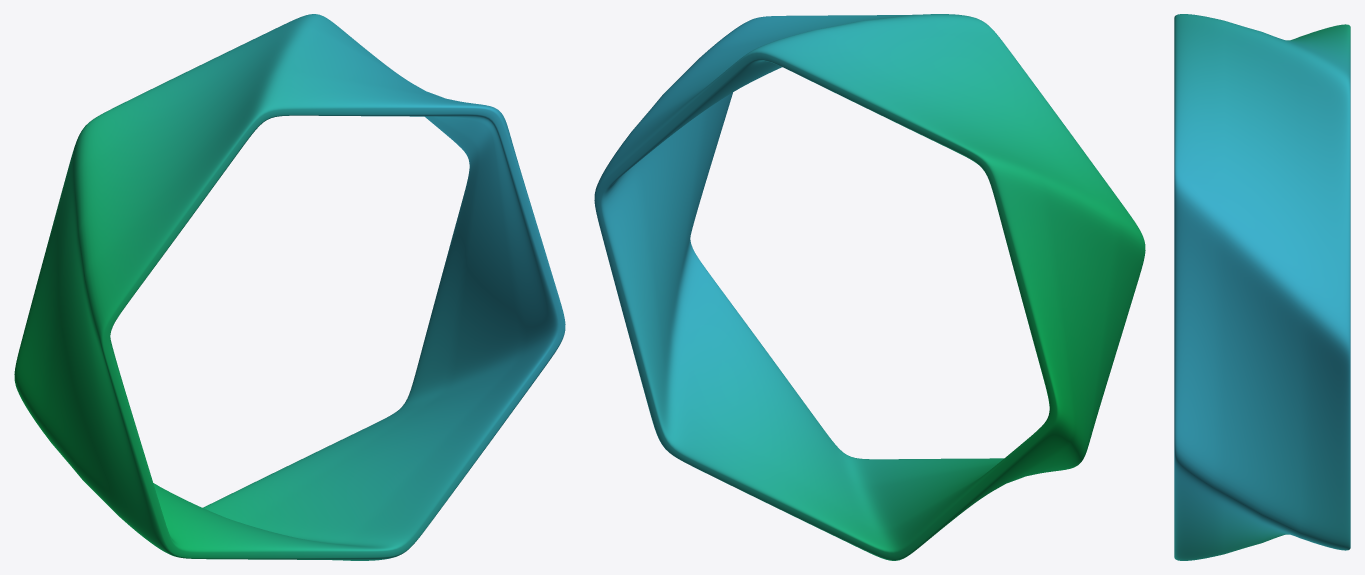
File: fluent-hex.glb
The picture shows the model from 3 angles, left to right: view 1: azimuth 30°, elevation 25°; view 2: azimuth 150°, elevation 25°; view 3: azimuth 270°, elevation 25°; orthographic projection.
Visible parts, largest first — view 1: Fluent_hex; view 2: Fluent_hex; view 3: Fluent_hex.
Part boxes in pixels (<box>): Fluent_hex: <box>14,14,565,560</box>; Fluent_hex: <box>594,14,1145,560</box>; Fluent_hex: <box>1174,14,1350,560</box>.
Bounding box in the file's own units: 2.87 × 2.97 × 0.94.
